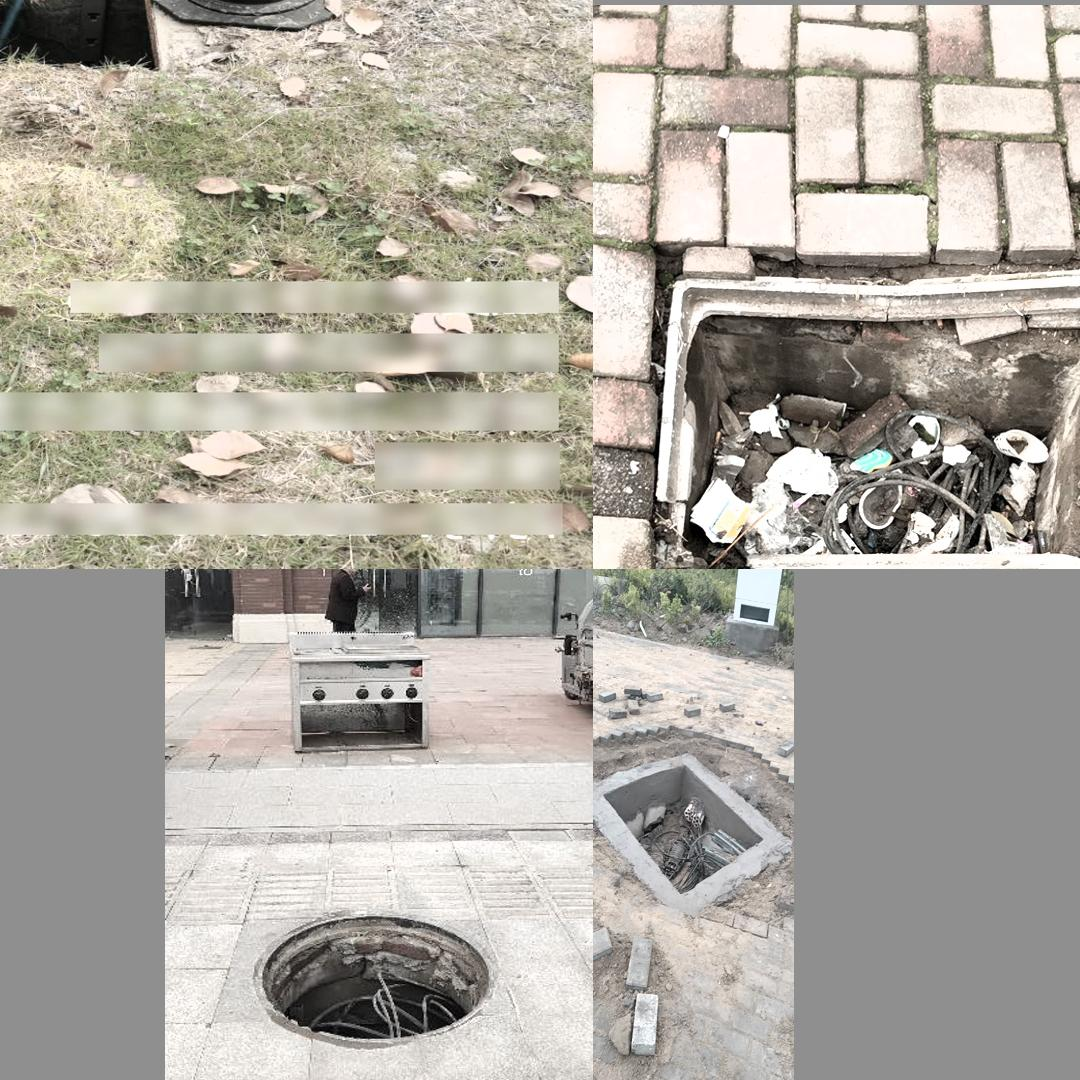lose: (654, 266, 1080, 569), (232, 901, 509, 1052), (599, 742, 785, 896), (0, 0, 171, 72)
